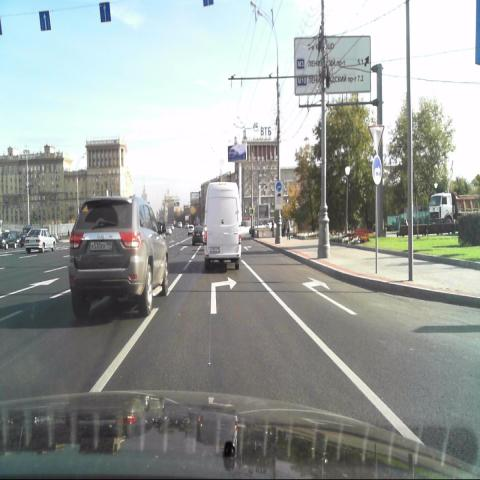5_15_2: (39, 10, 52, 32)
